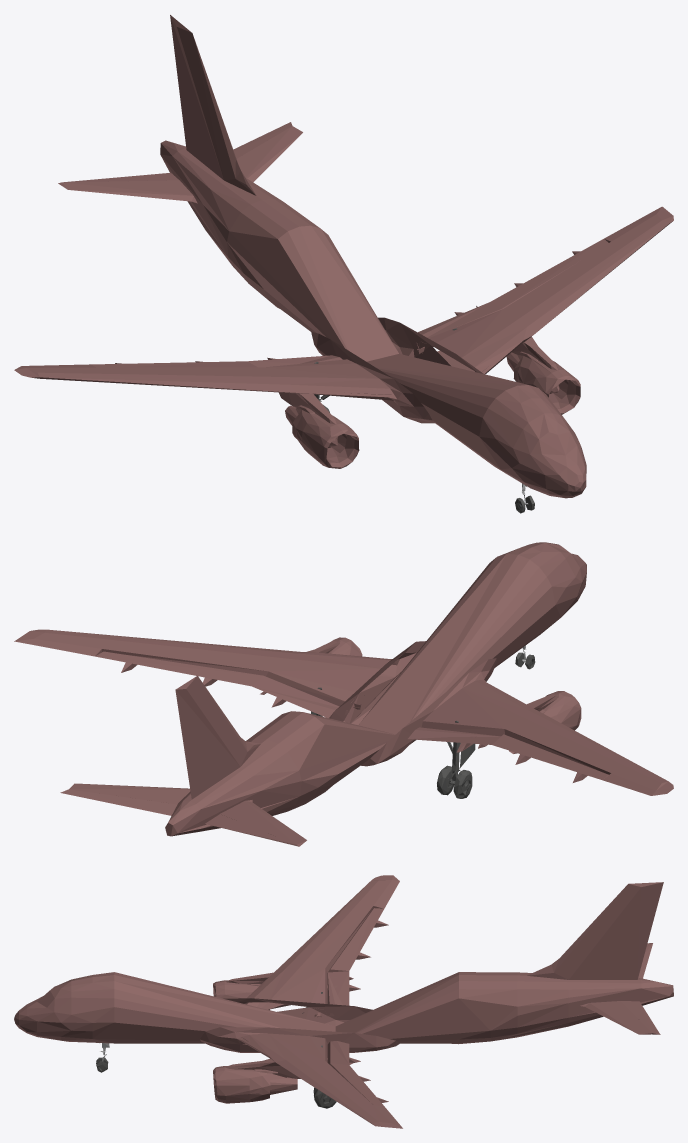
3 renders of one model, top to bottom at view 1: azimuth 30°, elevation 25°; view 2: azimuth 150°, elevation 25°; view 3: azimuth 270°, elevation 25°, orthographic. The views are drawn at different scales.
Visible parts, largest first — view 1: Object_4; view 2: Object_4; view 3: Object_4.
Boxes of the visible parts, x1,y1,x2,y2 form: Object_4: (14, 15, 673, 513); Object_4: (14, 542, 673, 846); Object_4: (14, 875, 673, 1128).
Size of the model in its own units: 34.1 by 12.31 by 37.6.
